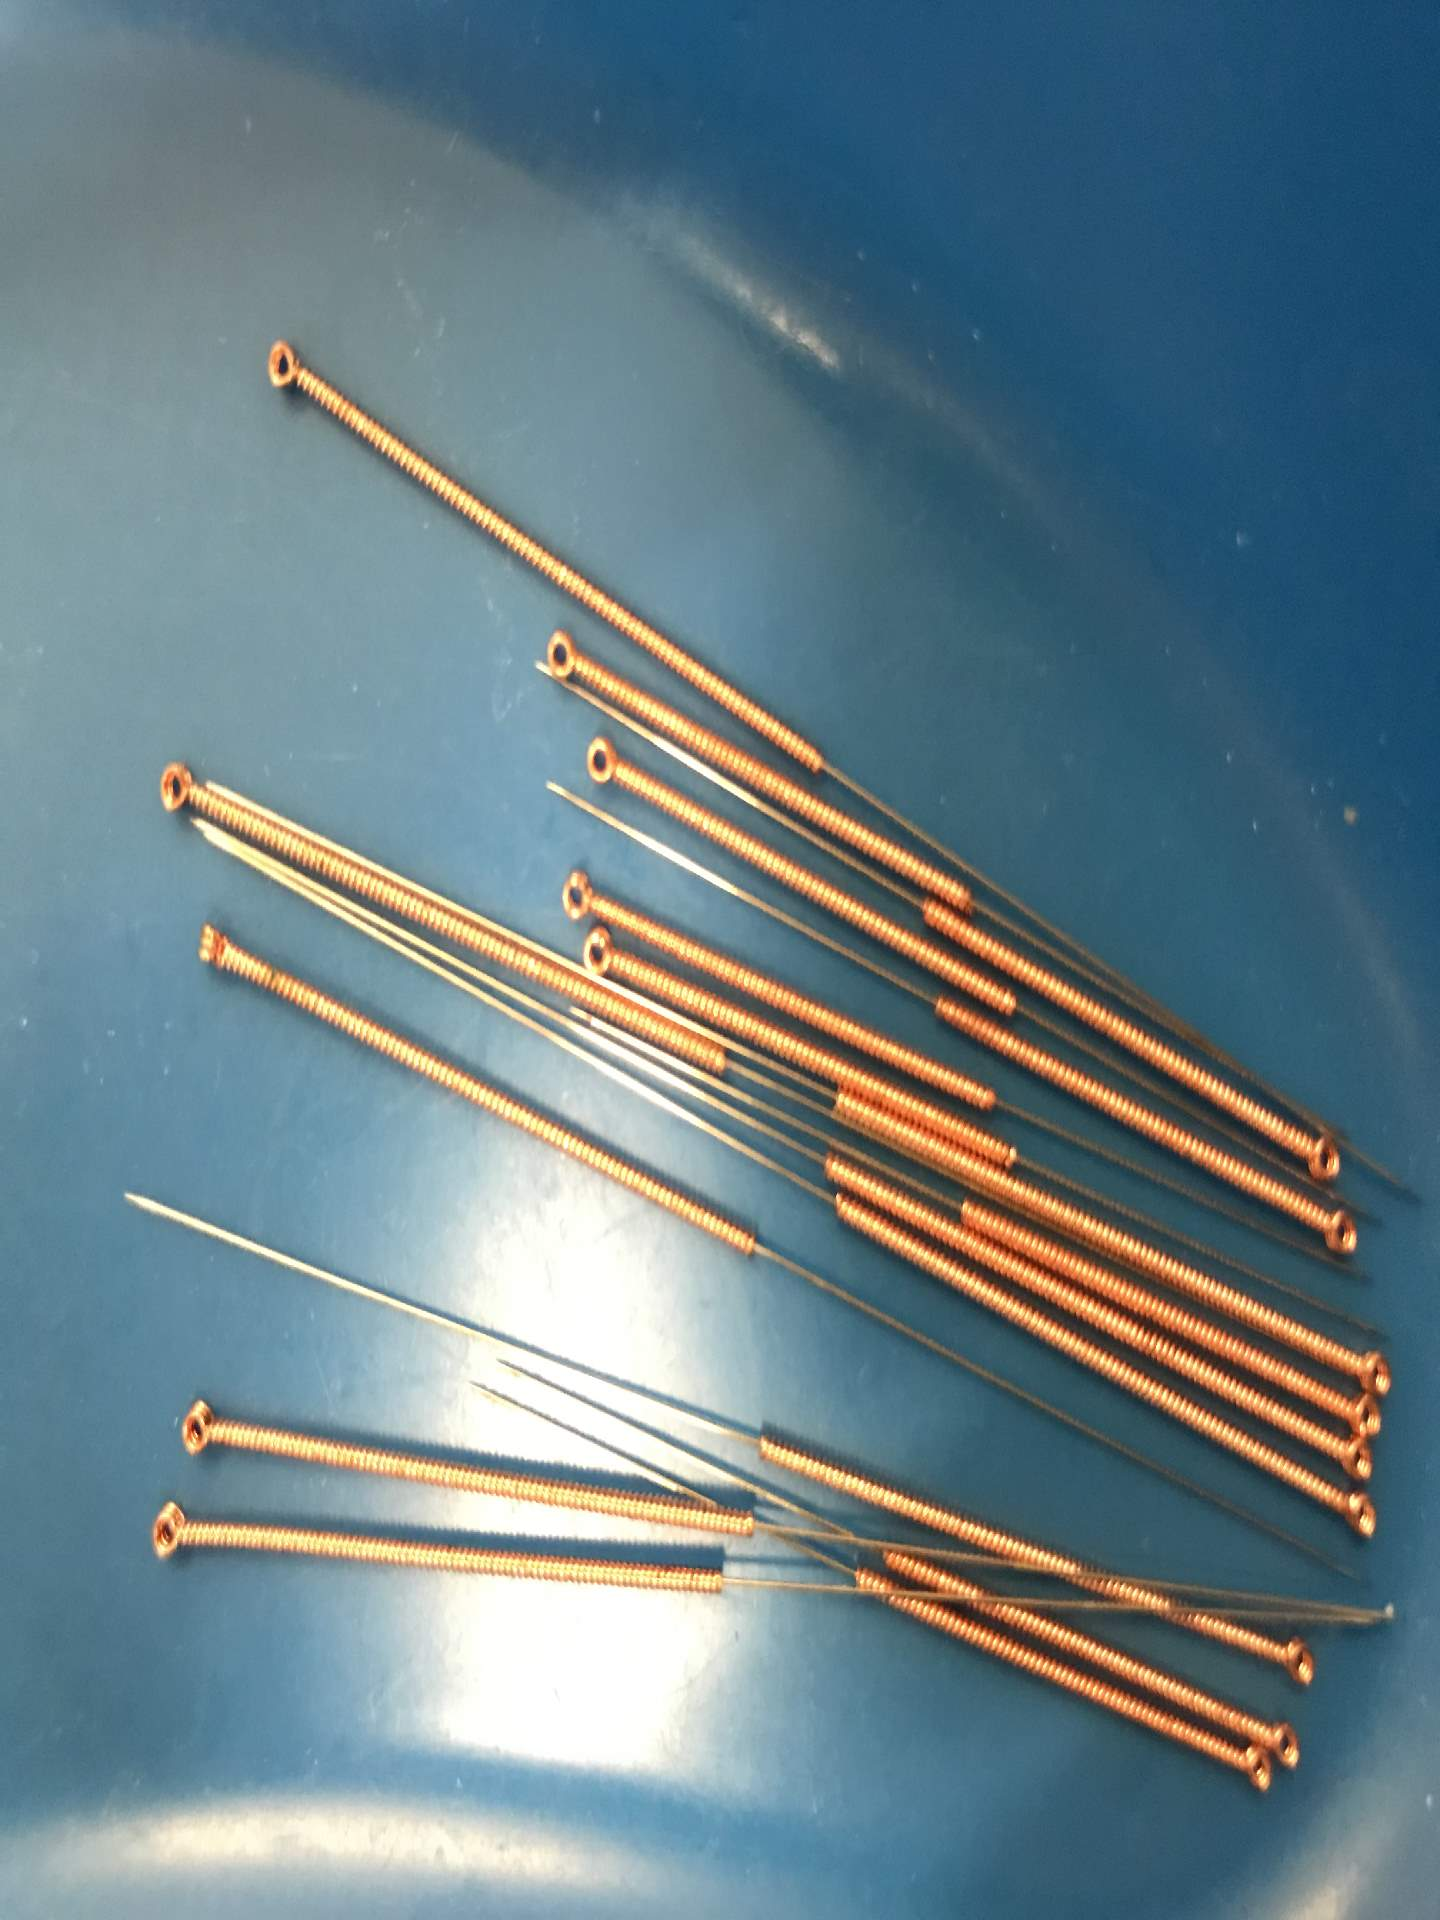needle: (247, 319, 322, 404), (123, 1494, 204, 1571), (1301, 1191, 1375, 1270), (563, 726, 632, 803), (163, 1388, 231, 1465), (178, 909, 247, 986), (526, 618, 594, 694), (1289, 1116, 1352, 1193), (1262, 1628, 1327, 1699), (142, 750, 206, 821), (1337, 1330, 1399, 1398), (548, 856, 607, 927), (1324, 1489, 1389, 1551), (1327, 1385, 1398, 1439), (1216, 1739, 1274, 1804), (569, 924, 631, 983), (1322, 1432, 1383, 1489), (1263, 1705, 1307, 1770)
